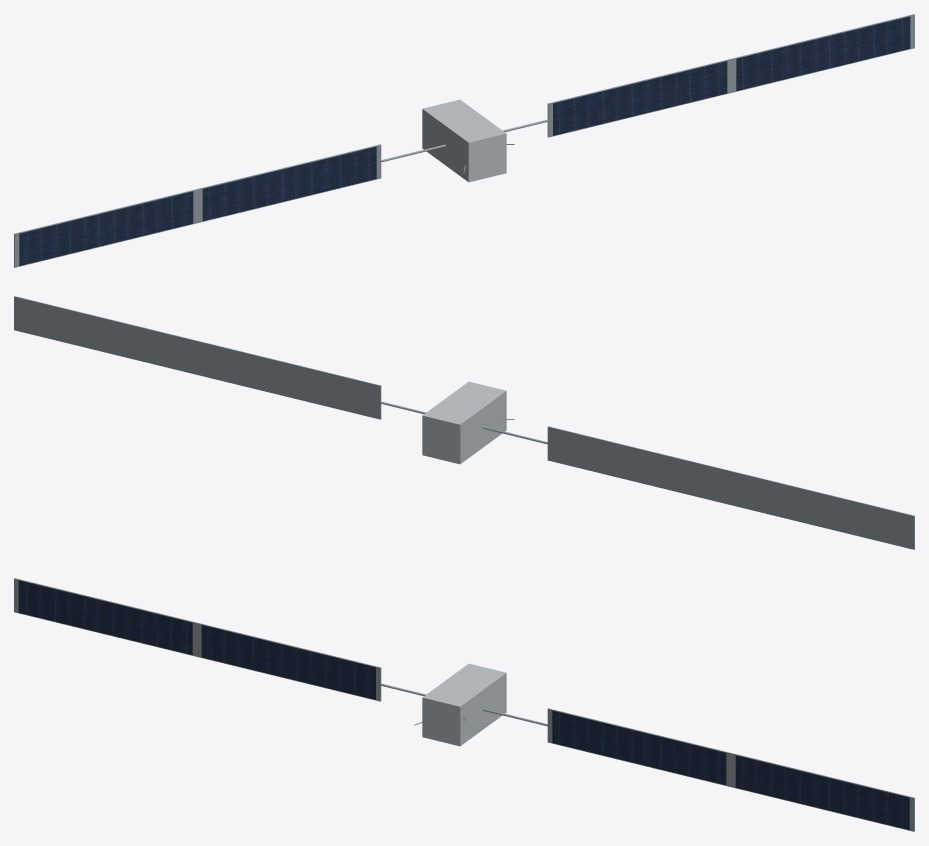
File: ref-ogo-1620.glb
3 renders of one model, top to bottom at view 1: azimuth 30°, elevation 25°; view 2: azimuth 150°, elevation 25°; view 3: azimuth 330°, elevation 25°, orthographic.
Visible parts, largest first — view 1: Photovoltaic laminates (×4), Spacecraft body, Array frame (×4); view 2: Array frame (×4), Spacecraft body; view 3: Photovoltaic laminates (×4), Spacecraft body, Array frame (×4).
Boxes of the visible parts, <box> form: Photovoltaic laminates (×4): <box>19,16,910,265</box>; Spacecraft body: <box>422,99,506,182</box>; Array frame (×4): <box>14,14,914,267</box>; Array frame (×4): <box>14,296,914,549</box>; Spacecraft body: <box>422,381,506,464</box>; Photovoltaic laminates (×4): <box>18,580,909,829</box>; Spacecraft body: <box>422,663,506,746</box>; Array frame (×4): <box>14,578,914,831</box>.
Bounding box in the file's own units: 19 × 0.8 × 1.76.
3 materials, 1 textured.
